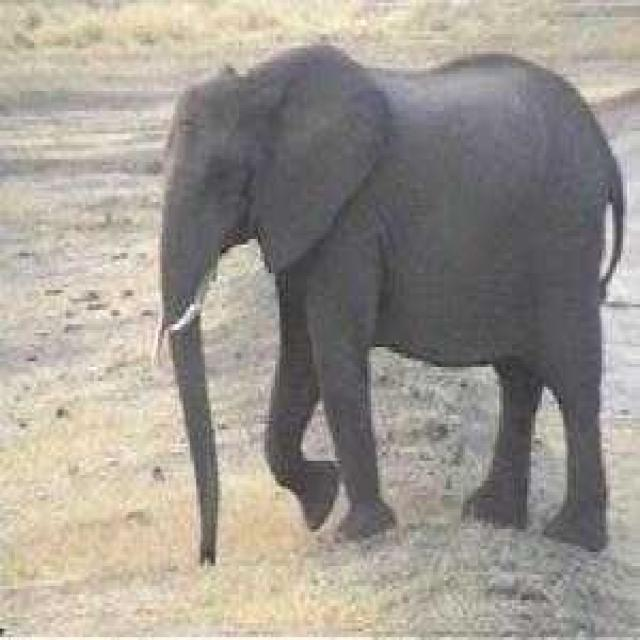Elephant: (152, 40, 625, 566)
